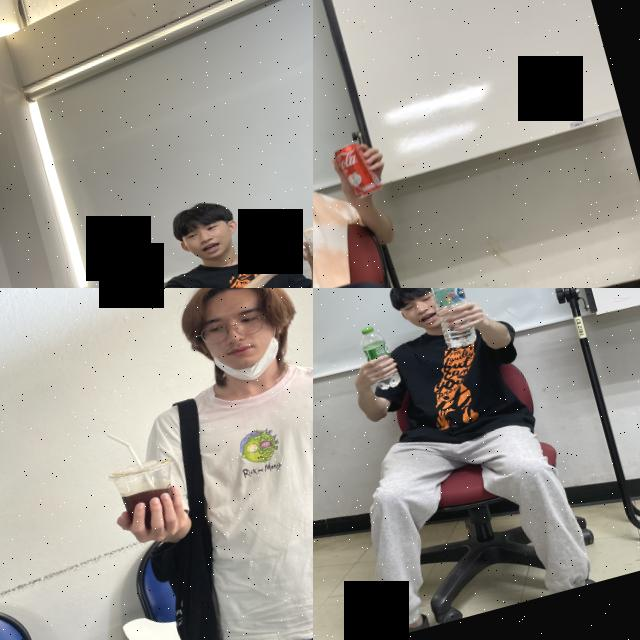bottle: (424, 288, 480, 351), (355, 321, 402, 393)
can: (332, 138, 382, 202)
cup: (107, 452, 189, 532), (297, 219, 313, 265)
